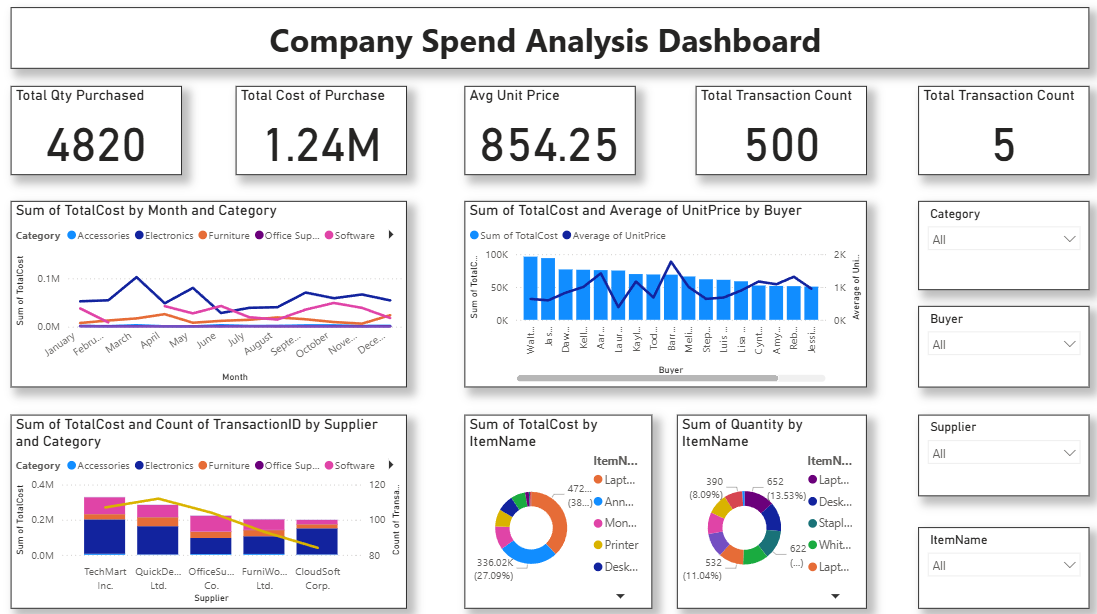

Layout of this report page (visuals, bound fields, positions):
{"tool":"powerbi","page":{"name":"Page 1","canvas":[1280,720],"ordinal":0},"visuals":[{"type":"textbox","box":[15.9,0,1250.7,84.1],"z":0},{"type":"card","title":"Total Qty Purchased","fields":{"Values":["spend_analysis_dataset.Quantity"]},"box":[15.9,104.3,198.6,102.9],"z":1000},{"type":"card","title":"Total Cost of Purchase","fields":{"Values":["spend_analysis_dataset.TotalCost"]},"box":[276.8,104.3,198.6,102.9],"z":2000},{"type":"card","title":"Avg Unit Price","fields":{"Values":["spend_analysis_dataset.UnitPrice"]},"box":[542,104.3,198.6,102.9],"z":3000},{"type":"card","title":"Total Transaction Count","fields":{"Values":["spend_analysis_dataset.TransactionID"]},"box":[810.1,104.3,198.6,102.9],"z":4000},{"type":"slicer","fields":{"Values":["spend_analysis_dataset.Category"]},"box":[1068.1,237.7,198.6,102.9],"z":5000},{"type":"slicer","fields":{"Values":["spend_analysis_dataset.Buyer"]},"box":[1068.1,359.4,198.6,94.2],"z":6000},{"type":"lineStackedColumnComboChart","fields":{"Category":["spend_analysis_dataset.Buyer"],"Y":["spend_analysis_dataset.TotalCost"],"Y2":["spend_analysis_dataset.UnitPrice"]},"box":[542,237.7,466.7,215.9],"z":7000},{"type":"slicer","fields":{"Values":["spend_analysis_dataset.Supplier"]},"box":[1068.1,485.5,198.6,94.2],"z":8000},{"type":"lineStackedColumnComboChart","fields":{"Y":["spend_analysis_dataset.TotalCost"],"Y2":["spend_analysis_dataset.TransactionID"],"Category":["spend_analysis_dataset.Supplier"],"Series":["spend_analysis_dataset.Category"]},"box":[15.9,485.5,459.4,224.6],"z":9000},{"type":"slicer","fields":{"Values":["spend_analysis_dataset.ItemName"]},"box":[1068.1,615.9,198.6,94.2],"z":10000},{"type":"donutChart","fields":{"Category":["spend_analysis_dataset.ItemName"],"Y":["spend_analysis_dataset.TotalCost"]},"box":[542,485.5,217.4,224.6],"z":11000},{"type":"donutChart","fields":{"Category":["spend_analysis_dataset.ItemName"],"Y":["spend_analysis_dataset.Quantity"]},"box":[788.4,485.5,220.3,224.6],"z":12000},{"type":"lineChart","fields":{"Category":["spend_analysis_dataset.PurchaseDate.Variation.Date Hierarchy.Year","spend_analysis_dataset.PurchaseDate.Variation.Date Hierarchy.Quarter","spend_analysis_dataset.PurchaseDate.Variation.Date Hierarchy.Month","spend_analysis_dataset.PurchaseDate.Variation.Date Hierarchy.Day"],"Y":["spend_analysis_dataset.TotalCost"],"Series":["spend_analysis_dataset.Category"]},"box":[15.9,237.7,459.4,215.9],"z":13000},{"type":"card","title":"Total Transaction Count","fields":{"Values":["spend_analysis_dataset.Supplier"]},"box":[1068.1,104.3,198.6,102.9],"z":13001}]}

Visuals, with their boxes in screenshot pixels (x1, y1, x2, y2), scaled from the page's 1280x720 canvas onto the 1097x614 screenshot:
textbox: 14/0/1086/72
"Total Qty Purchased" card: 14/89/184/177
"Total Cost of Purchase" card: 237/89/407/177
"Avg Unit Price" card: 465/89/635/177
"Total Transaction Count" card: 694/89/864/177
slicer - spend_analysis_dataset.Category: 915/203/1086/290
slicer - spend_analysis_dataset.Buyer: 915/306/1086/387
lineStackedColumnComboChart - spend_analysis_dataset.Buyer x spend_analysis_dataset.TotalCost: 465/203/864/387
slicer - spend_analysis_dataset.Supplier: 915/414/1086/494
lineStackedColumnComboChart - spend_analysis_dataset.TotalCost x spend_analysis_dataset.TransactionID: 14/414/407/606
slicer - spend_analysis_dataset.ItemName: 915/525/1086/606
donutChart - spend_analysis_dataset.ItemName x spend_analysis_dataset.TotalCost: 465/414/651/606
donutChart - spend_analysis_dataset.ItemName x spend_analysis_dataset.Quantity: 676/414/864/606
lineChart - spend_analysis_dataset.PurchaseDate.Variation.Date Hierarchy.Year x spend_analysis_dataset.PurchaseDate.Variation.Date Hierarchy.Quarter: 14/203/407/387
"Total Transaction Count" card: 915/89/1086/177
